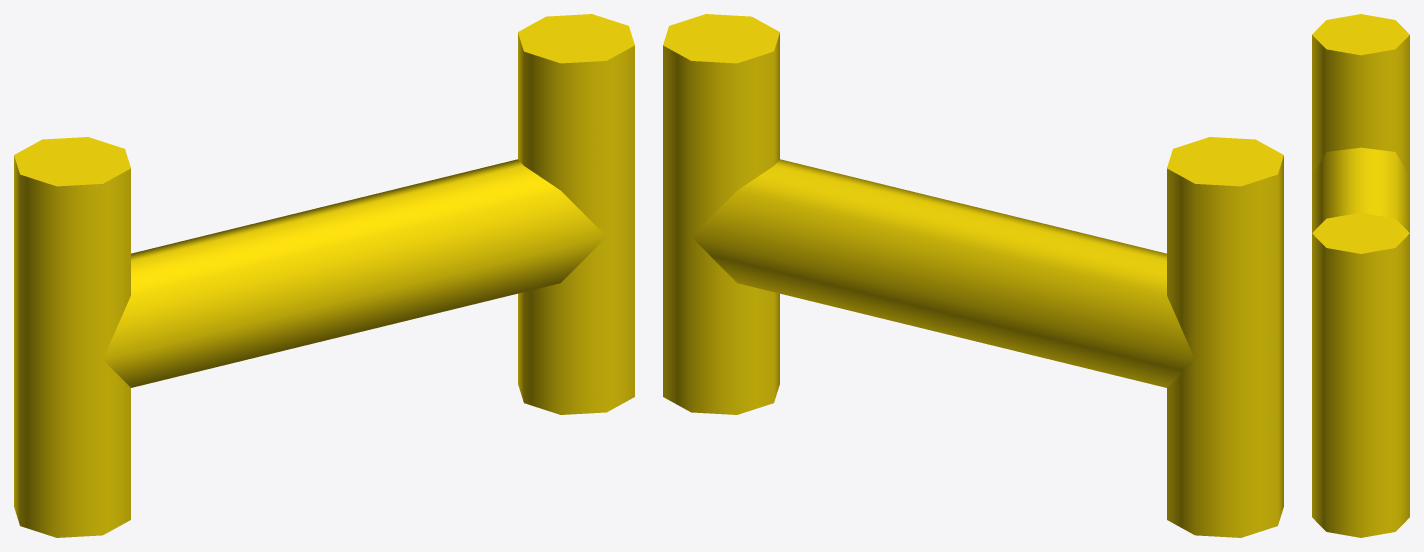
The model's file is Ladder_rounded.fbx.
The picture shows the model from 3 angles, left to right: view 1: azimuth 30°, elevation 25°; view 2: azimuth 150°, elevation 25°; view 3: azimuth 270°, elevation 25°; orthographic projection. The views are drawn at different scales.
Parts seen in each view (by area): view 1: Ladder_rounded; view 2: Ladder_rounded; view 3: Ladder_rounded.
Boxes of the visible parts, x1,y1,x2,y2 form: Ladder_rounded: (14, 14, 634, 537); Ladder_rounded: (663, 14, 1283, 537); Ladder_rounded: (1312, 14, 1409, 537).
Bounding box in the file's own units: 94.25 × 52 × 16.25.
